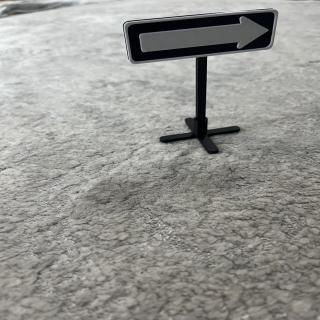sign_oneway_right: (123, 8, 281, 66)
